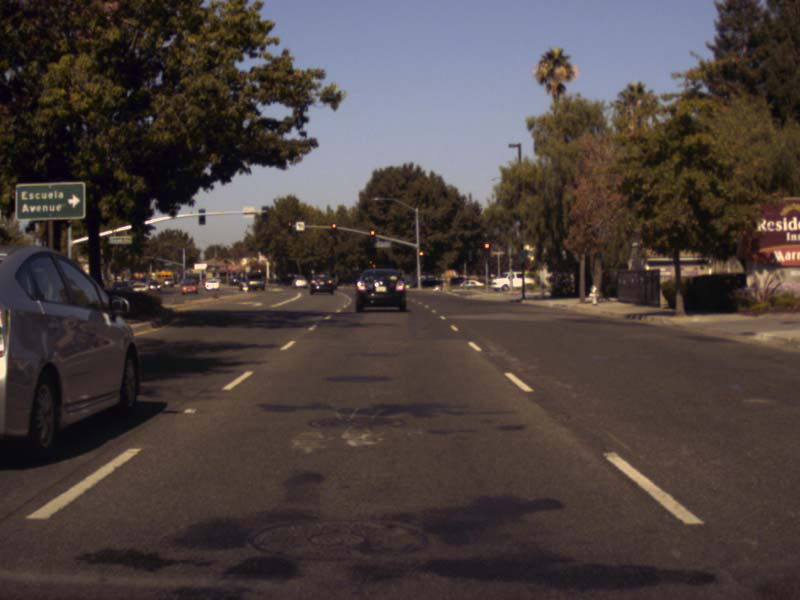Red: (483, 240, 490, 252), (370, 229, 375, 242), (332, 223, 336, 235), (287, 221, 291, 232), (419, 250, 423, 260)
